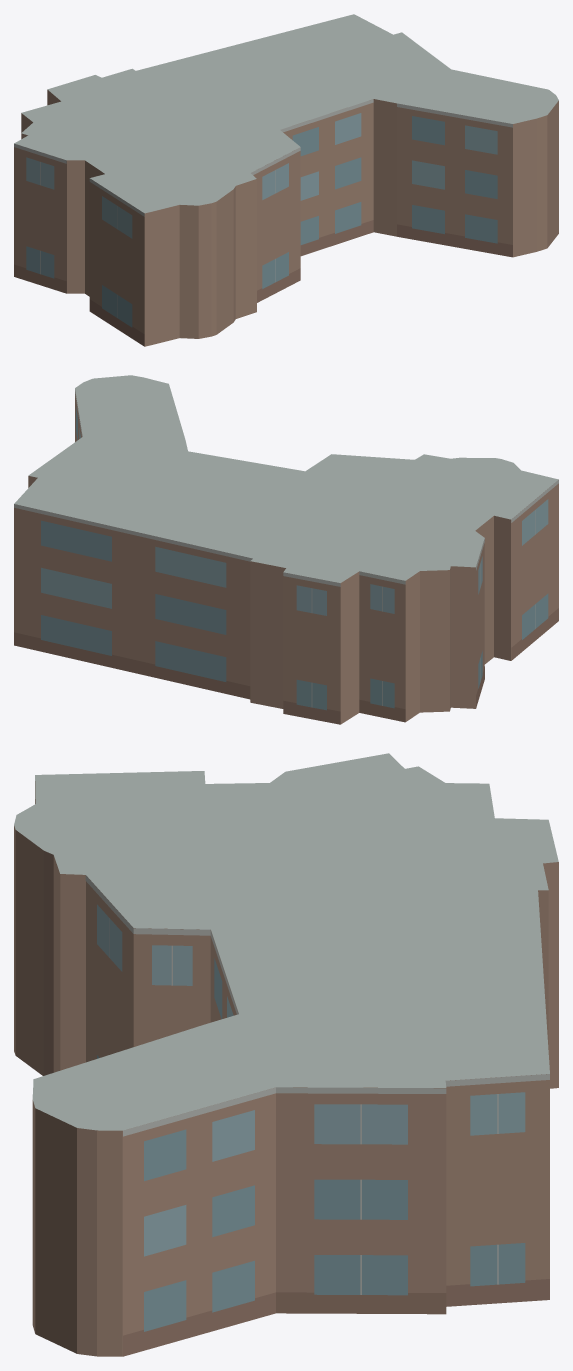
Rendered from survey-upis-32584942.glb.
3 renders of one model, top to bottom at view 1: azimuth 30°, elevation 25°; view 2: azimuth 150°, elevation 25°; view 3: azimuth 270°, elevation 25°, orthographic. The views are drawn at different scales.
Visible parts, largest first — view 1: survey-upis-32584942.tmp; view 2: survey-upis-32584942.tmp; view 3: survey-upis-32584942.tmp.
Boxes of the visible parts, box(x1,y1,x2,y2) form: survey-upis-32584942.tmp: box(14, 14, 558, 346); survey-upis-32584942.tmp: box(14, 375, 558, 724); survey-upis-32584942.tmp: box(14, 753, 558, 1356).
Size of the model in its own units: 32.78 by 9.15 by 20.
